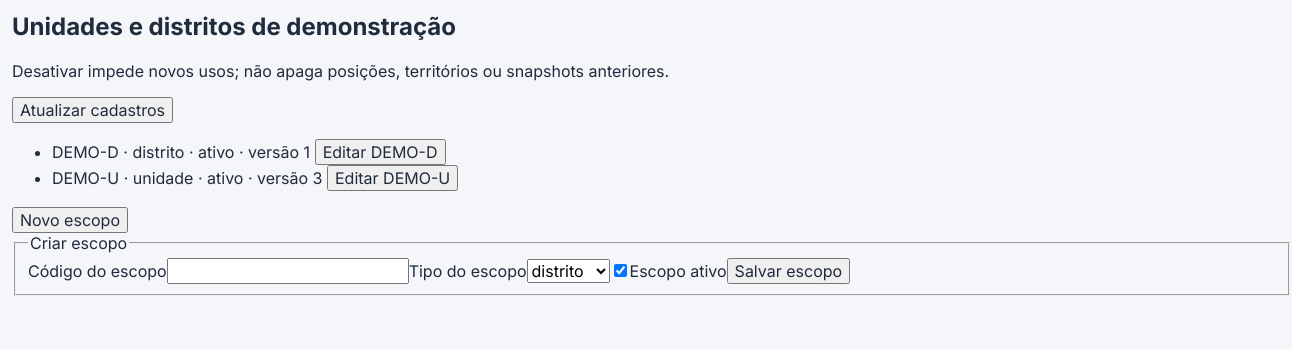
Test: administrative metadata boundary › keeps edits after confirmed version conflict and allows refreshing
This screenshot has width=1292, height=349.
Click the button "Editar DEMO-U".
click(393, 178)  # box [327,165,458,191]
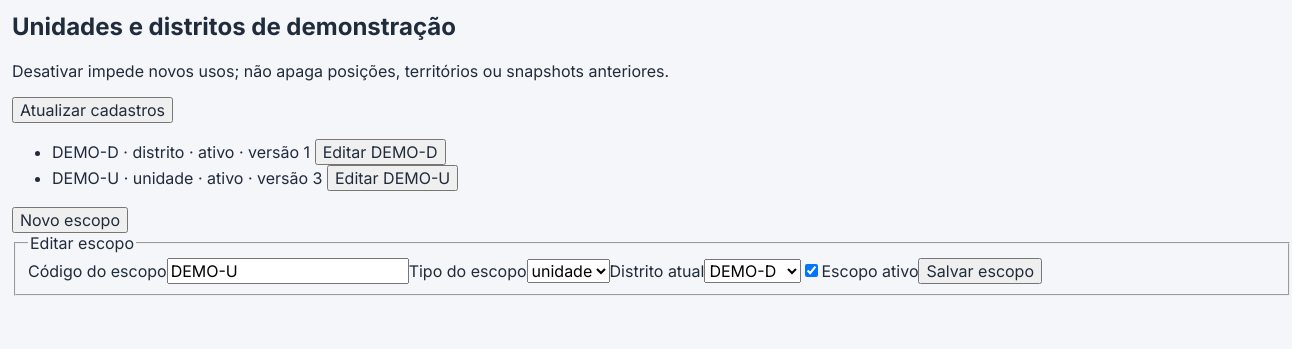
Replace the text in the field labelled "Código do escopo" with "LOCAL-EDIT" at [288, 271], box [167,258,409,284]
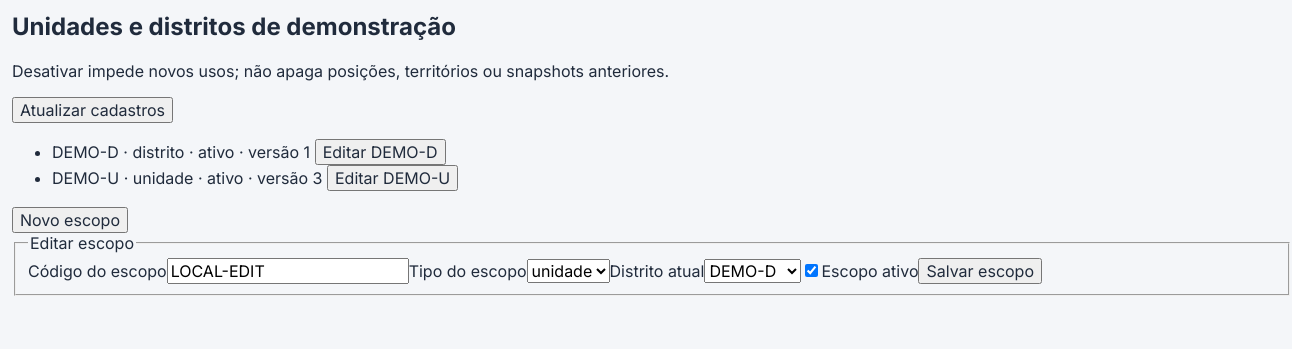
Click the button "Salvar escopo".
click(980, 271)  # box [918,258,1042,284]
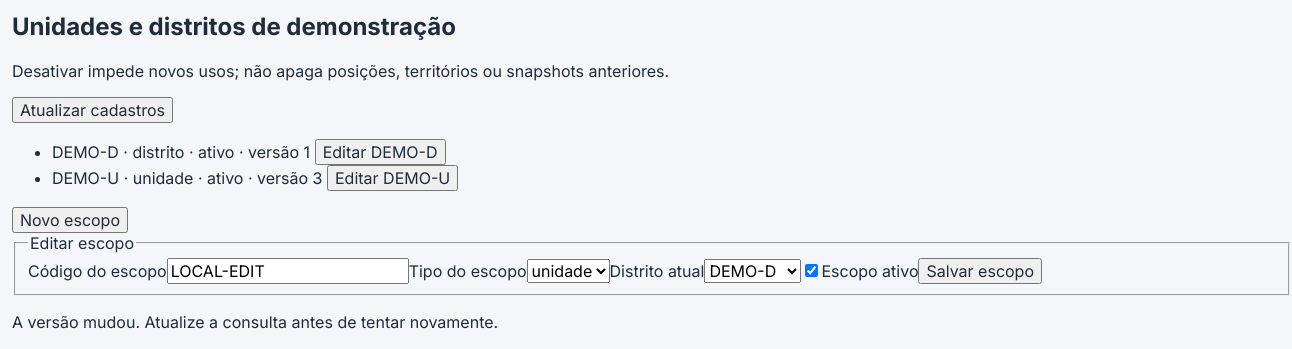
Expected: the button "Atualizar cadastros" is enabled, [12,97,173,123]
Now the message "A versão mudou. Atualize a consulta antes de tentar novamente." is shown, box [12,312,498,332]
